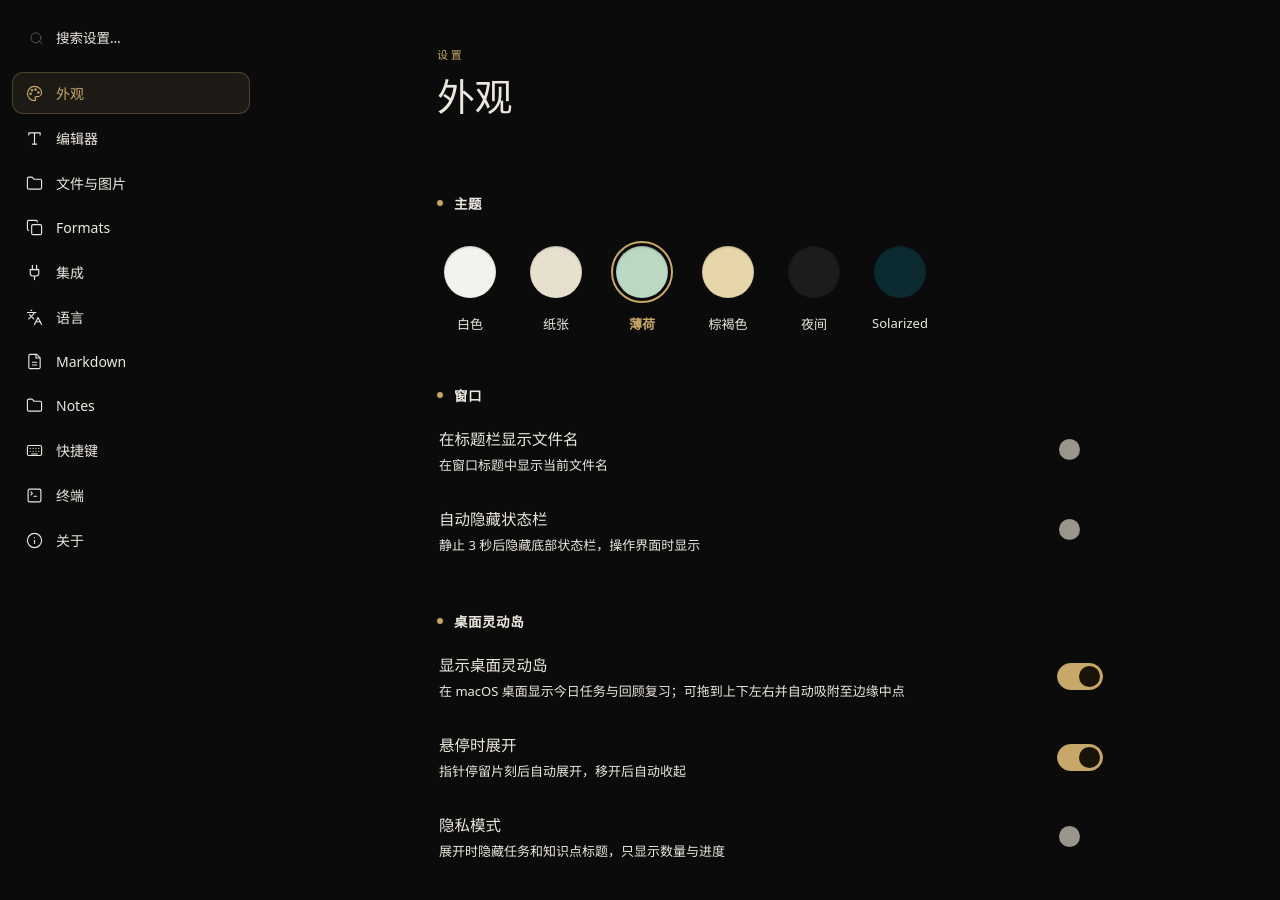
Test: AurisSettings feature truthfulness › does not advertise unsupported file policies and keeps Pandoc export truthful
This screenshot has width=1280, height=900.
Click the button "文件与图片" at (131, 183), box [12, 162, 250, 204]
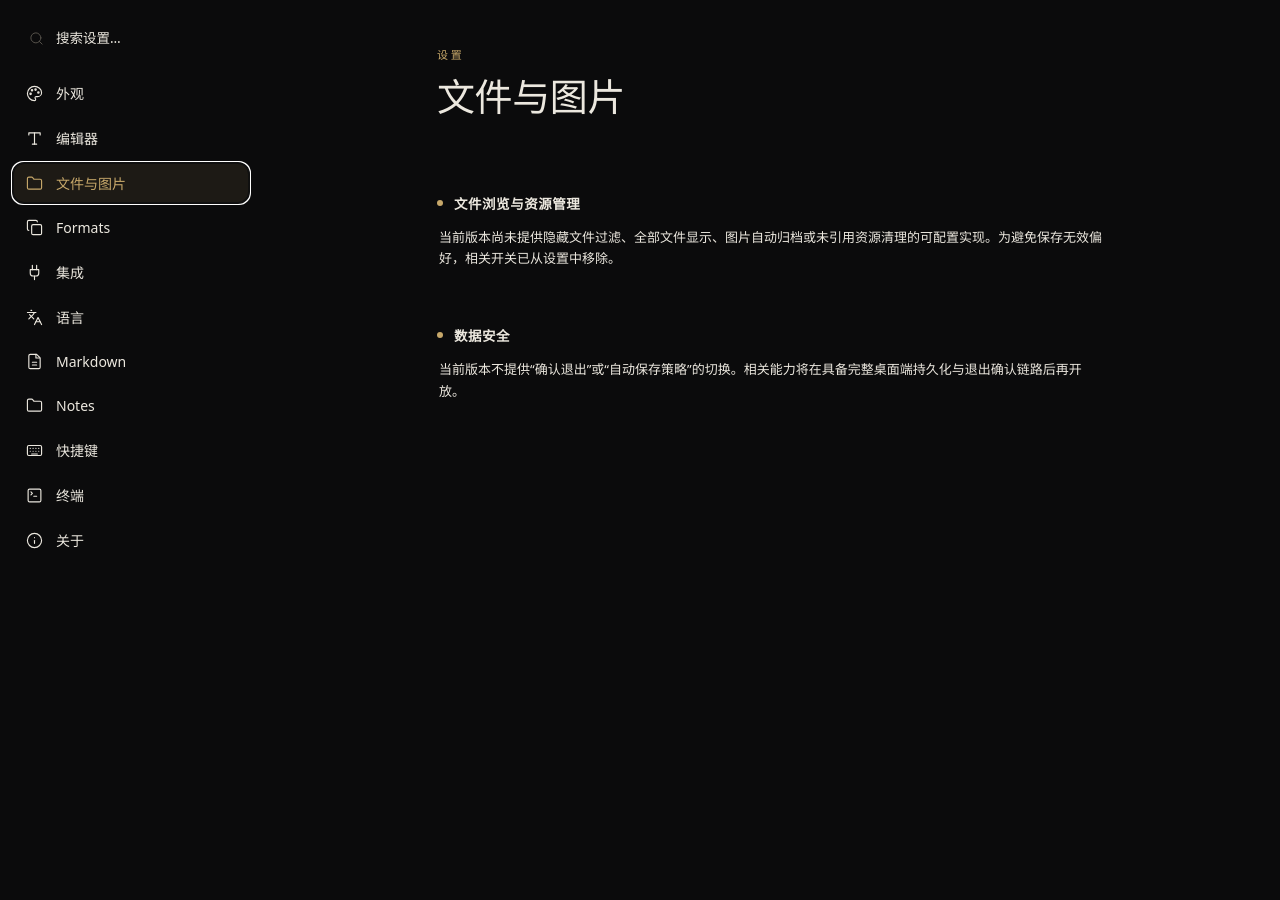
Expected: the text "当前版本不提供“确认退出”或“自动保存策略”的切换。相关能力将在具备完整桌面端持久化与退出确认链路后再开放。" is shown, [439, 360, 1082, 400]
Click the button "Formats" at (131, 228), box [12, 207, 250, 248]
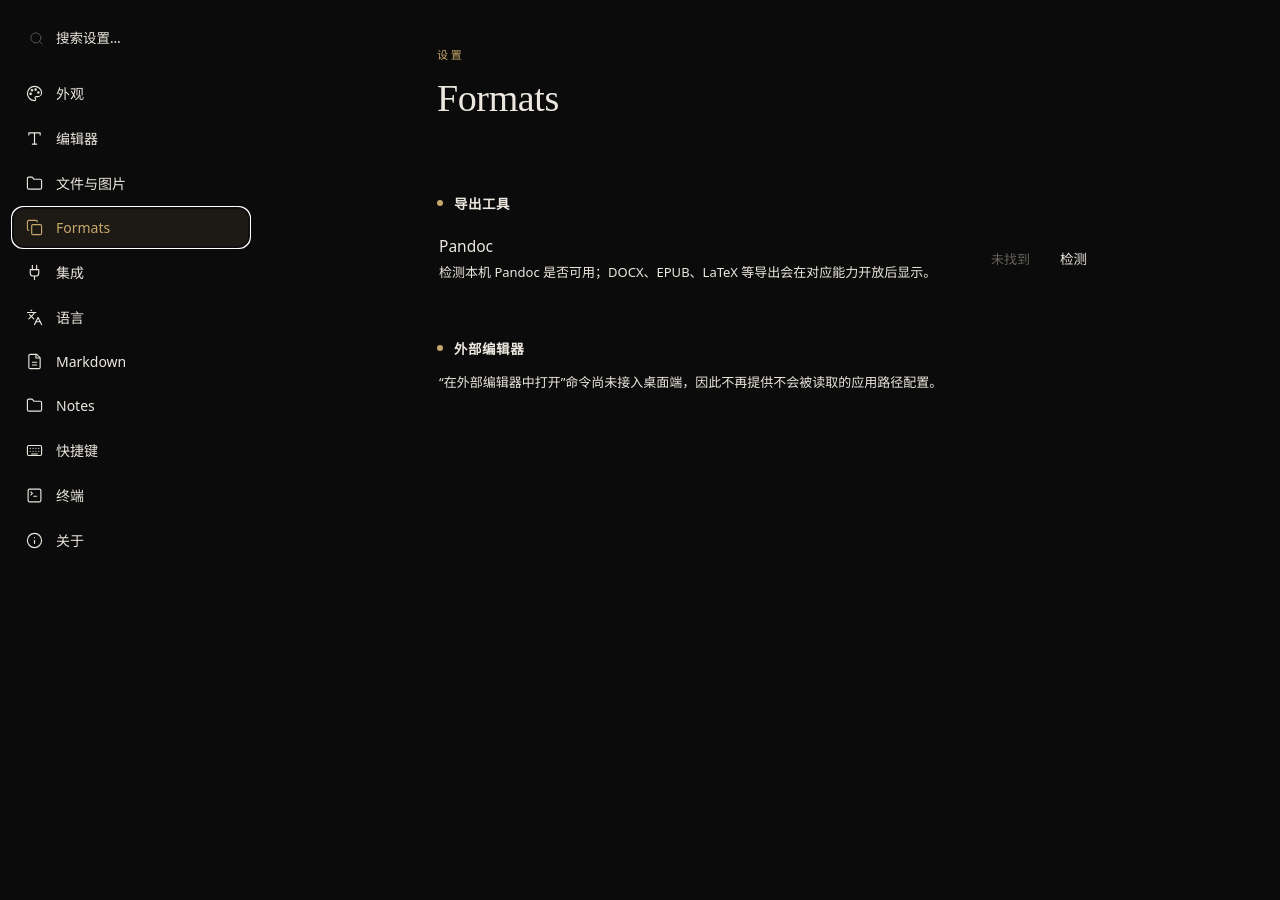
Expected: the text "检测本机 Pandoc 是否可用；DOCX、EPUB、LaTeX 等导出会在对应能力开放后显示。" is shown, [439, 262, 936, 282]
